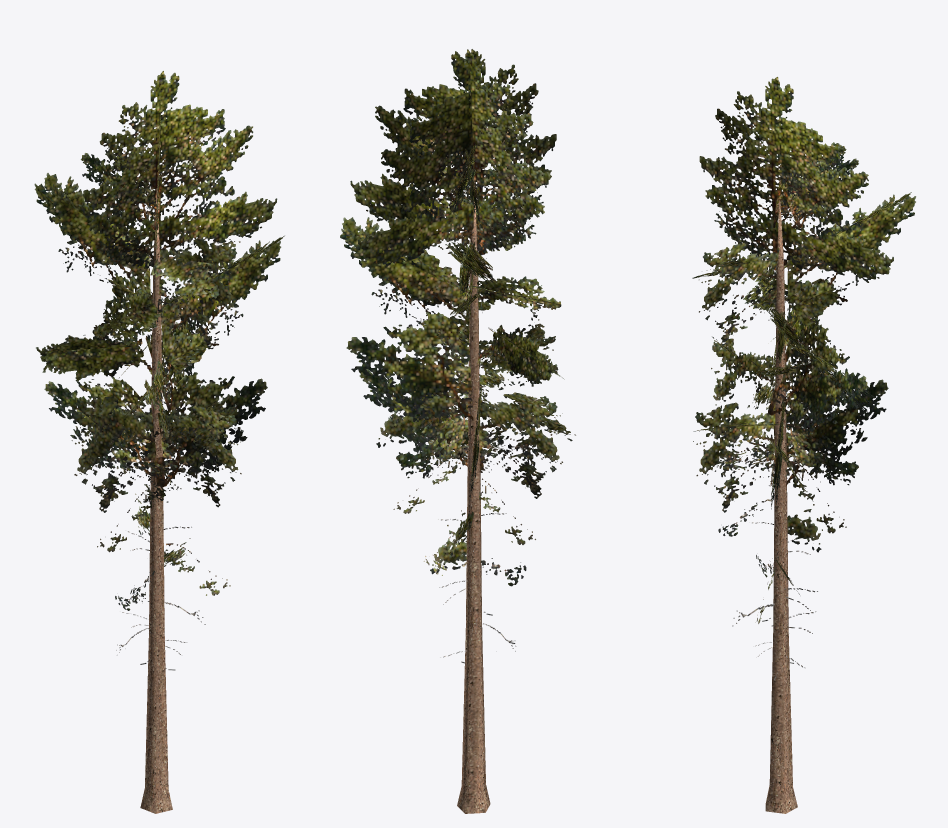
Rendered from SM_Tree_Tall_01.fbx.
The picture shows the model from 3 angles, left to right: view 1: azimuth 30°, elevation 25°; view 2: azimuth 150°, elevation 25°; view 3: azimuth 270°, elevation 25°; orthographic projection. The views are drawn at different scales.
Parts seen in each view (by area): view 1: Tree_Tall_01_wSphere; view 2: Tree_Tall_01_wSphere; view 3: Tree_Tall_01_wSphere.
Part boxes in pixels (x1,y1,x2,y2): Tree_Tall_01_wSphere: (34, 70, 284, 813); Tree_Tall_01_wSphere: (340, 49, 575, 813); Tree_Tall_01_wSphere: (692, 76, 916, 813).
Size of the model in its own units: 446 by 431 by 1230.
